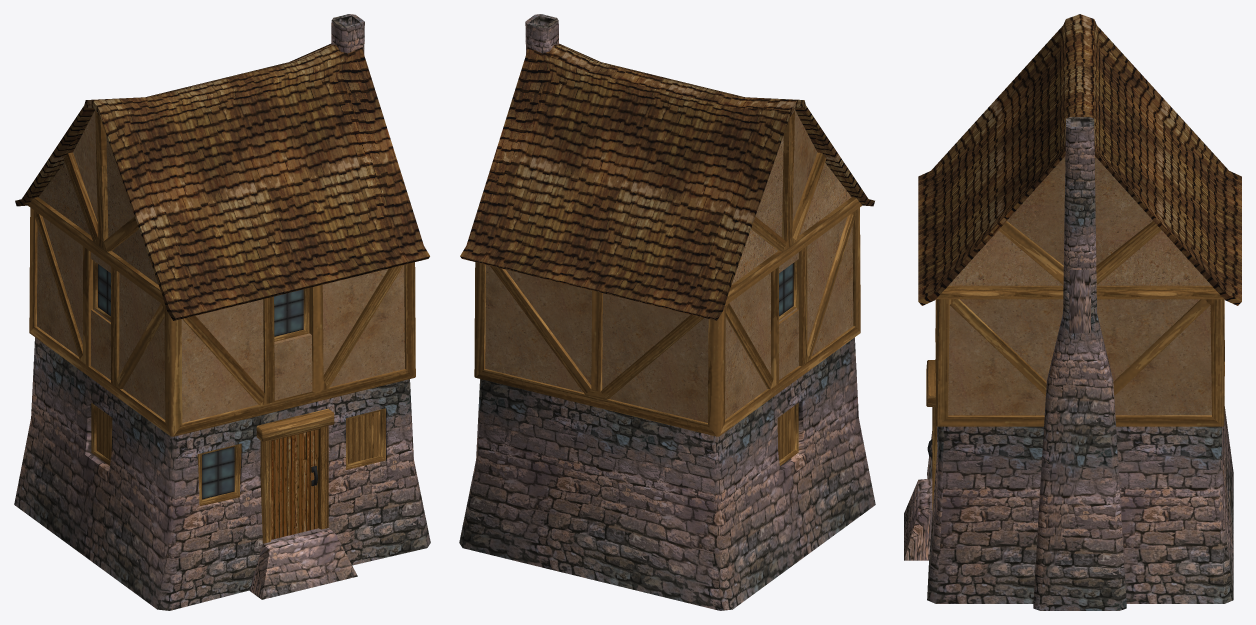
Rendered from BrickHouse2.FBX.
3 renders of one model, left to right at view 1: azimuth 30°, elevation 25°; view 2: azimuth 150°, elevation 25°; view 3: azimuth 270°, elevation 25°, orthographic.
Visible parts, largest first — view 1: house_brick02_walls, house_brick02_roof, house_brick02_chimney; view 2: house_brick02_walls, house_brick02_roof, house_brick02_chimney; view 3: house_brick02_walls, house_brick02_roof, house_brick02_chimney.
Boxes of the visible parts, x1,y1,x2,y2 form: house_brick02_walls: (14, 208, 430, 610); house_brick02_roof: (15, 44, 429, 320); house_brick02_chimney: (331, 14, 364, 54); house_brick02_walls: (459, 207, 875, 610); house_brick02_roof: (460, 43, 874, 320); house_brick02_chimney: (525, 14, 558, 54); house_brick02_walls: (904, 299, 1233, 603); house_brick02_roof: (918, 14, 1241, 305); house_brick02_chimney: (1033, 117, 1126, 610).
Size of the model in its own units: 5.91 by 9.26 by 5.95.
